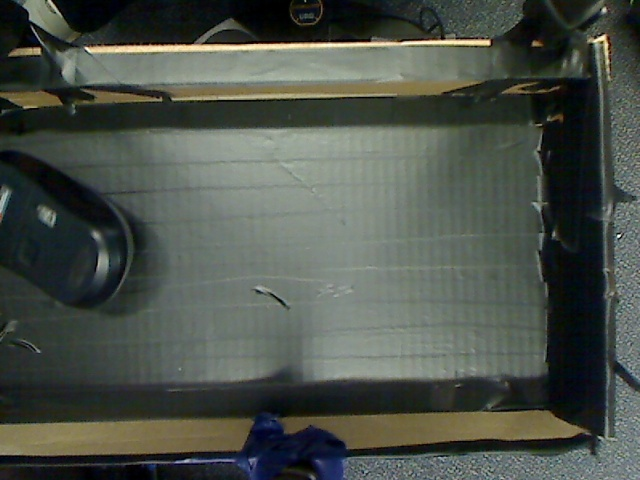mouse: (1, 144, 161, 312)
